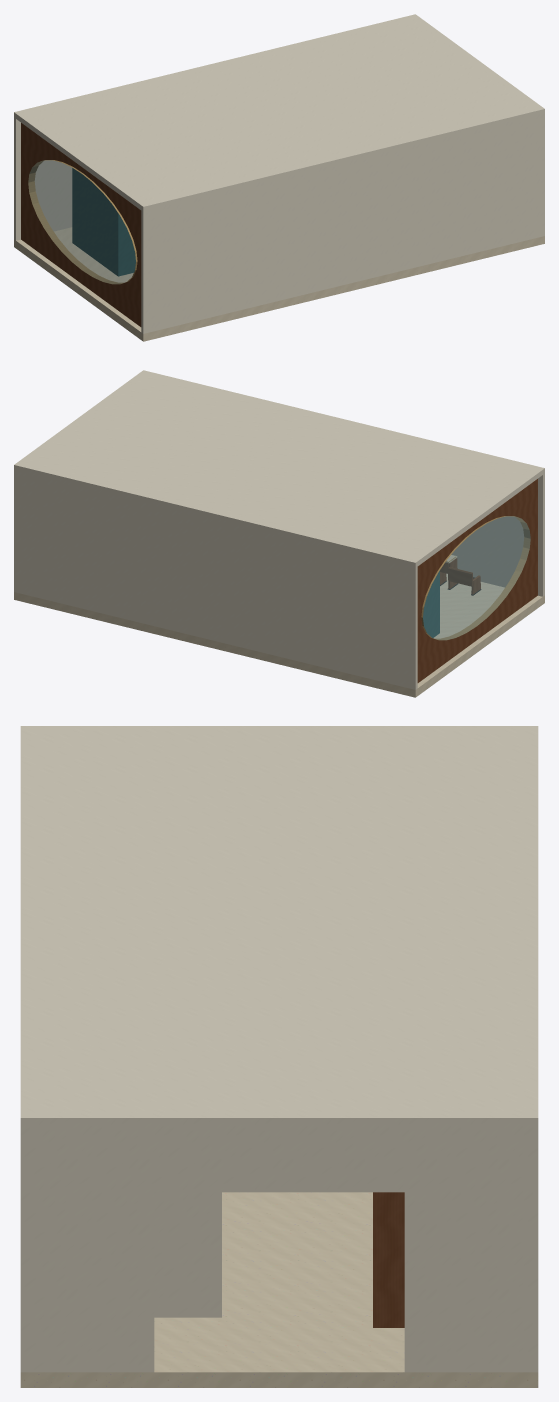
The model's file is QuietGroveSpecialty_159_r001.glb.
3 views of the same model, one above another, from view 1: azimuth 30°, elevation 25°; view 2: azimuth 150°, elevation 25°; view 3: azimuth 270°, elevation 25° (orthographic). The views are drawn at different scales.
Visible parts, largest first — view 1: QG159_Ceiling, QG159_SouthSide, QG159_OvalAtriumGlass, QG159_RoomFloor, QG159_OvalWindowReveal, QG159_Cocoon_RearLiner, QG159_NorthSide, QG159_OvalDepthReturn, QG159_Cocoon_LeftLiner; view 2: QG159_Ceiling, QG159_NorthSide, QG159_OvalAtriumGlass, QG159_RoomFloor, QG159_OvalWindowReveal, QG159_SouthSide, QG159_OvalDepthReturn, QG159_Cocoon_RearLiner; view 3: QG159_Ceiling, QG159_RoomFloor, QG159_EntryShoulderNorth, QG159_EntryShoulderSouth, QG159_EntryHeader, QG159_WashEntrySide, QG159_EntryPrivacyDogleg, QG159_NorthSide, QG159_SouthSide.
Part boxes in pixels (box(x1,y1,x2,y2)): QG159_Ceiling: box(14, 14, 544, 211); QG159_SouthSide: box(141, 114, 544, 333); QG159_OvalAtriumGlass: box(28, 160, 135, 283); QG159_RoomFloor: box(14, 227, 544, 341); QG159_OvalWindowReveal: box(21, 123, 141, 326); QG159_Cocoon_RearLiner: box(73, 168, 116, 275); QG159_NorthSide: box(14, 117, 72, 240); QG159_OvalDepthReturn: box(28, 160, 137, 284); QG159_Cocoon_LeftLiner: box(117, 212, 135, 276); QG159_Ceiling: box(14, 370, 544, 567); QG159_NorthSide: box(14, 470, 417, 689); QG159_OvalAtriumGlass: box(423, 516, 530, 639); QG159_RoomFloor: box(14, 574, 544, 697); QG159_OvalWindowReveal: box(417, 479, 537, 682); QG159_SouthSide: box(451, 473, 544, 596); QG159_OvalDepthReturn: box(421, 516, 530, 640); QG159_Cocoon_RearLiner: box(423, 572, 438, 637); QG159_Ceiling: box(20, 726, 538, 1128); QG159_RoomFloor: box(20, 1192, 538, 1387); QG159_EntryShoulderNorth: box(404, 1128, 529, 1372); QG159_EntryShoulderSouth: box(29, 1128, 154, 1372); QG159_EntryHeader: box(150, 1128, 408, 1192); QG159_WashEntrySide: box(154, 1192, 221, 1317); QG159_EntryPrivacyDogleg: box(373, 1192, 404, 1327); QG159_NorthSide: box(529, 1128, 538, 1372); QG159_SouthSide: box(20, 1128, 29, 1372).
Size of the model in its own units: 12.9 by 4.14 by 7.2.
Materials: 58 (43 with a texture image).
